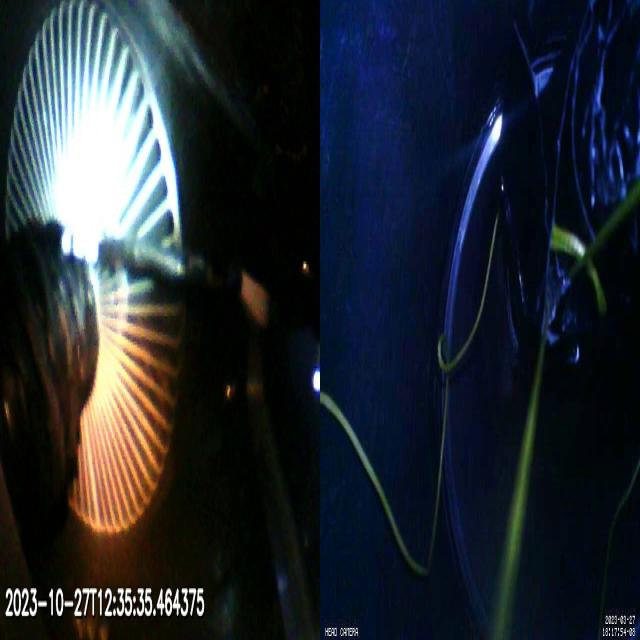white-dots: (60, 223, 100, 267)
